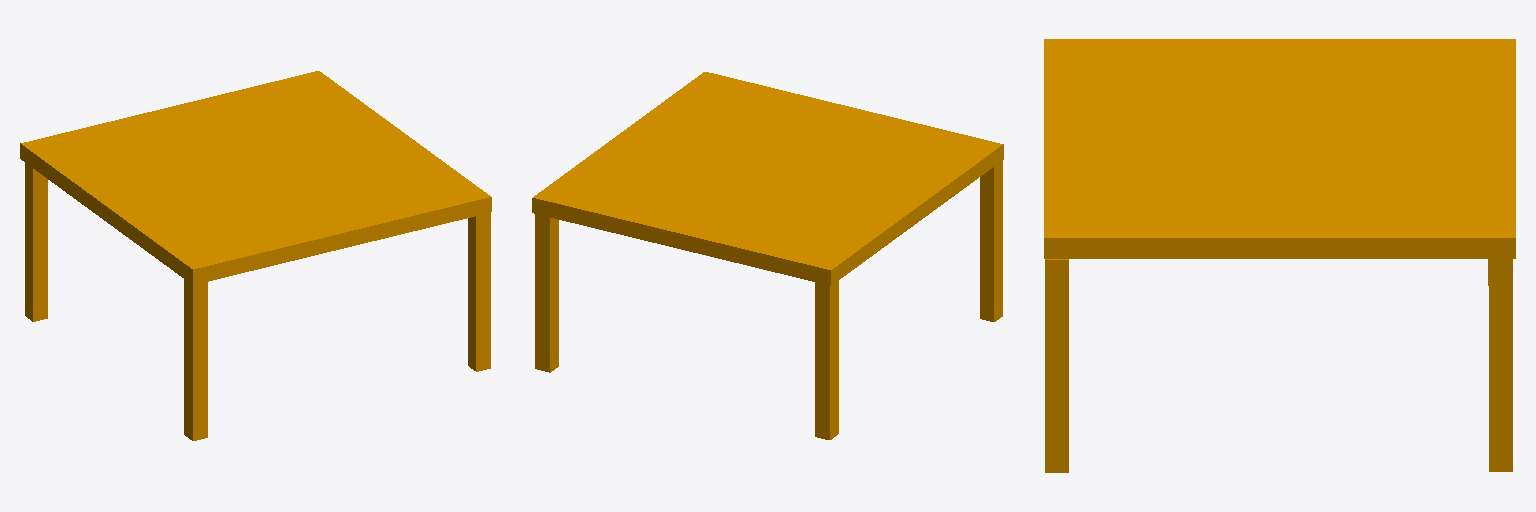
URDF robot description (table):
<?xml version="1.0" ?>
<robot name="table">
  <link name="_name">
  
    <visual>
      <origin rpy="0 0 0" xyz="0 0 0" />
      <geometry>
        <mesh filename="table.obj" scale="1 1 1" />
      </geometry>
    </visual>
    
    <collision>
      <origin rpy="0 0 0" xyz="0 0 0" />
      <geometry>
        <mesh filename="table.obj" scale="1 1 1" />
      </geometry>
    </collision>
    
    <inertial>
      <origin rpy="0 0 0" xyz="0.0 0.0 0.0" />
      <mass value="1" />
      <inertia ixx="1.0" ixy="0.0" ixz="0.0" iyy="1.0" iyz="0.0" izz="1.0" />
    </inertial>
    
  </link>
</robot>

--- Render facts (derived) ---
Views: 3 orthographic renders of the robot side by side, from view 1: azimuth 30°, elevation 25°; view 2: azimuth 150°, elevation 25°; view 3: azimuth 270°, elevation 25°.
Robot: table — 1 links, 0 joints (none); root link _name; default pose: every joint at zero.
Visible links, largest first — view 1: _name; view 2: _name; view 3: _name.
Link boxes in pixels (x1,y1,x2,y2): _name: (20,71,491,440); _name: (532,72,1003,439); _name: (1044,39,1515,472).
Bounding box of the posed robot: 0.4002 × 0.4 × 0.22 m (x, y, z).
1 mesh visuals loaded from 1 distinct referenced files (1 OBJ).
